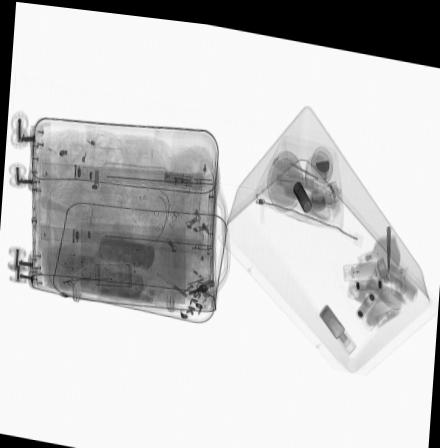Lighter: (63, 259, 96, 285)
